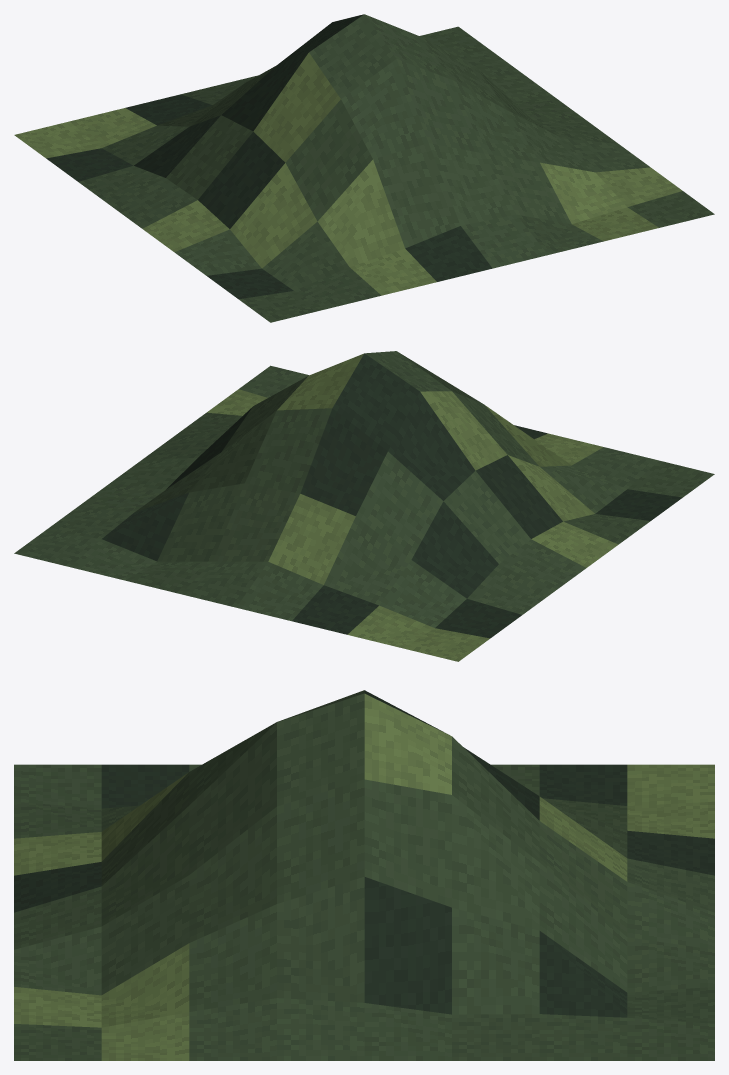
The model's file is terrain_hill.glb.
3 views of the same model, one above another, from view 1: azimuth 30°, elevation 25°; view 2: azimuth 150°, elevation 25°; view 3: azimuth 270°, elevation 25° (orthographic). The views are drawn at different scales.
Visible parts, largest first — view 1: terrain_hill; view 2: terrain_hill; view 3: terrain_hill.
Boxes of the visible parts, x1,y1,x2,y2 form: terrain_hill: [14, 14, 714, 322]; terrain_hill: [14, 351, 714, 661]; terrain_hill: [14, 690, 714, 1060].
Bounding box in the file's own units: 8 × 2.87 × 8.
1 material, 1 textured.
